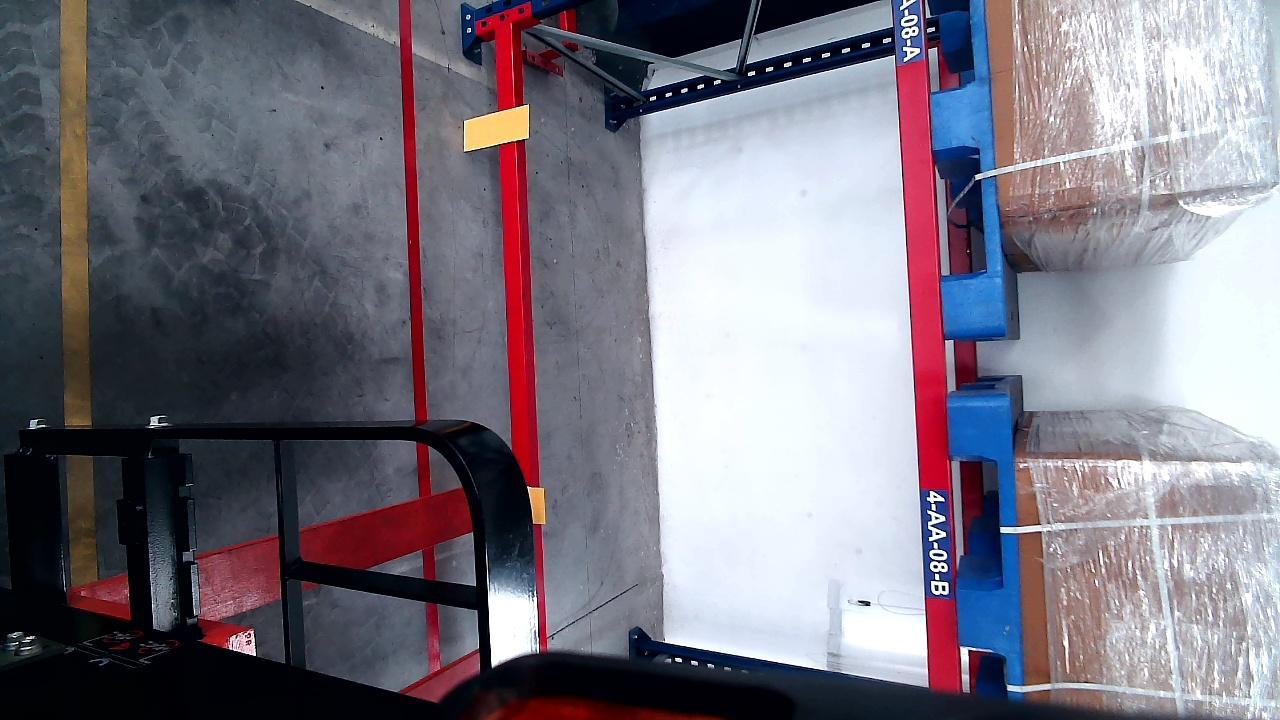red_line: (397, 0, 429, 497)
yellow_line: (59, 1, 93, 419)
